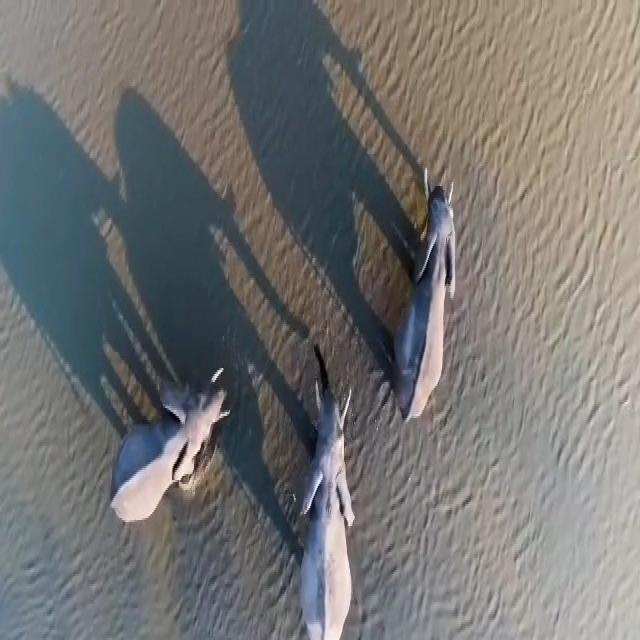Elephant: (99, 368, 240, 530), (290, 381, 369, 640), (390, 162, 468, 424)
